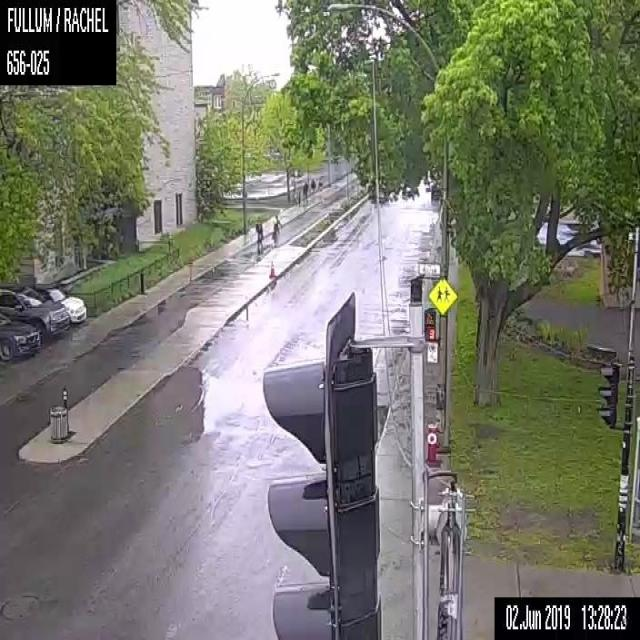construction: (268, 259, 276, 277)
cyclist: (270, 212, 280, 245)
pedestrian: (254, 216, 263, 255), (309, 176, 316, 199), (302, 179, 308, 203), (317, 176, 322, 202)
vehicle: (0, 285, 70, 339), (34, 283, 86, 322), (0, 314, 40, 362), (430, 182, 441, 202)
